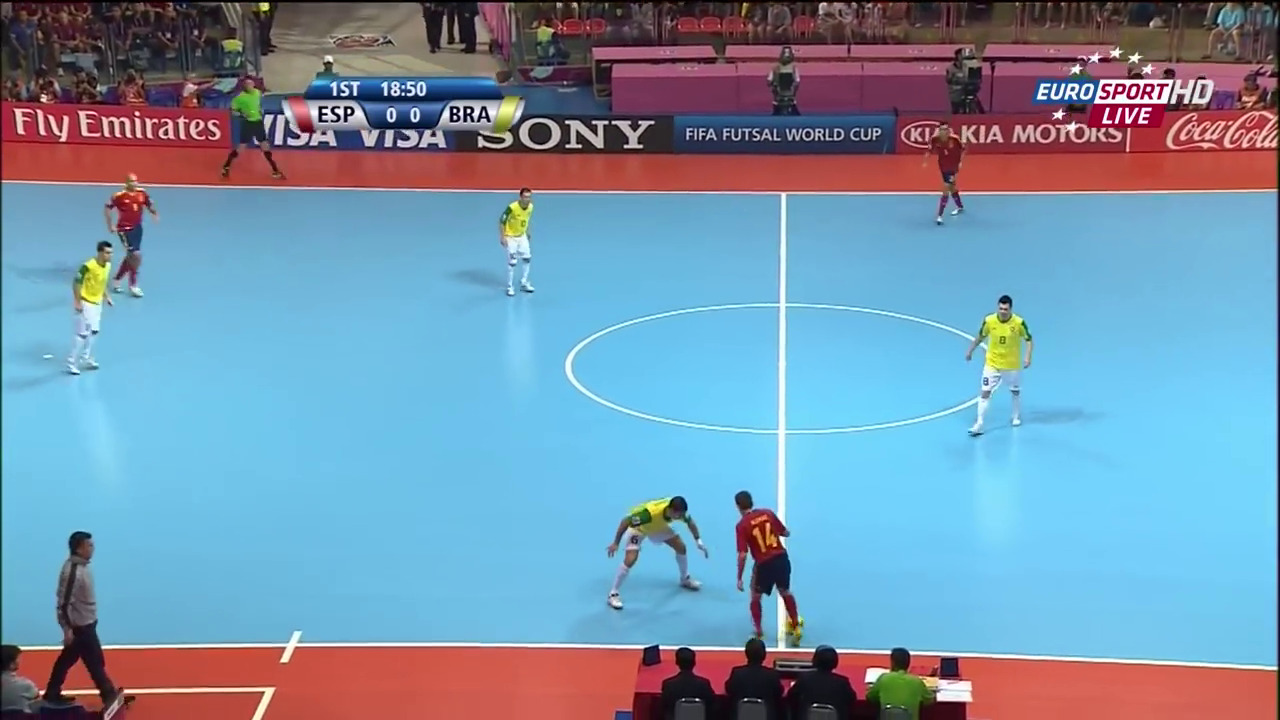ball: (782, 613, 807, 635)
person: (602, 486, 706, 608), (723, 486, 799, 642), (958, 291, 1036, 432), (61, 235, 115, 376), (100, 166, 151, 298), (491, 179, 544, 296), (915, 118, 972, 225)
